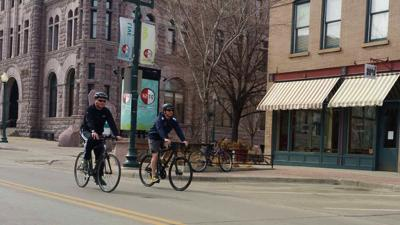With Helmet: (159, 101, 177, 120), (93, 89, 111, 107)
